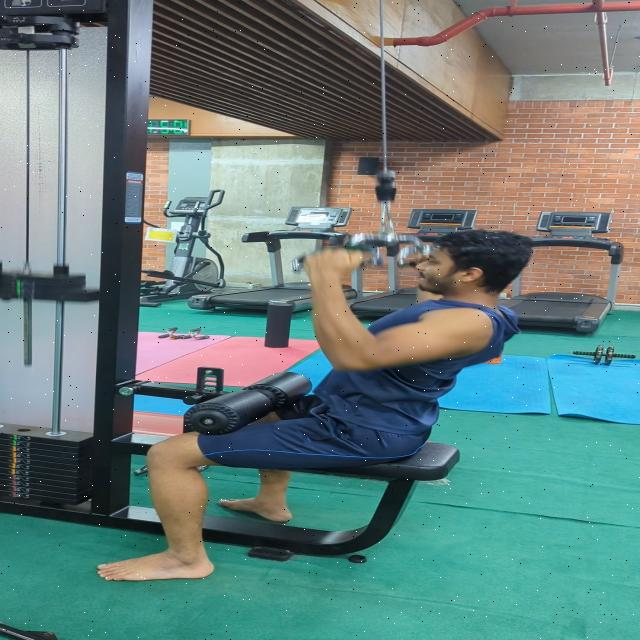Normal_LatPulldown: (44, 215, 563, 602)
